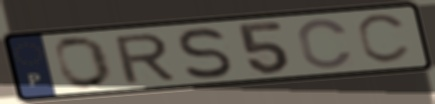5: (233, 21, 292, 77)
C: (354, 11, 413, 66), (296, 16, 356, 70)
O: (53, 34, 116, 91)
R: (110, 31, 178, 86)
S: (176, 25, 235, 81)
